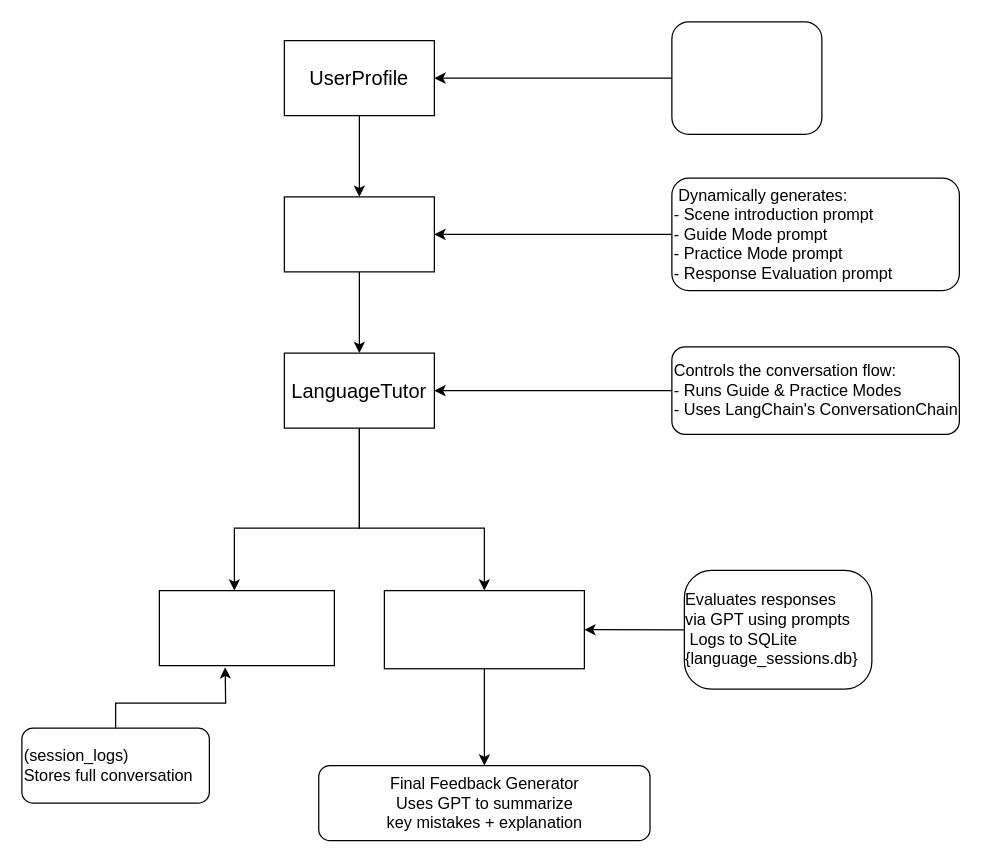
The diagram is 981 pixels wide and 863 high, and some of its shapes have lost their labels. Each missing label, with the centre of its shape:
"Collects user inputs: - Native language - Target language - Level - Scenerio" belongs at pixel 746 77.
"LessonManager" belongs at pixel 483 629.
"PromptBuilder" belongs at pixel 358 234.
"SessionLogger" belongs at pixel 246 627.
